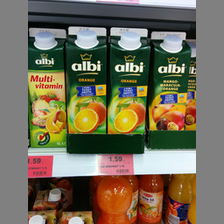juice: (29, 28, 68, 147), (65, 25, 107, 134), (108, 26, 150, 133), (149, 31, 191, 130)
